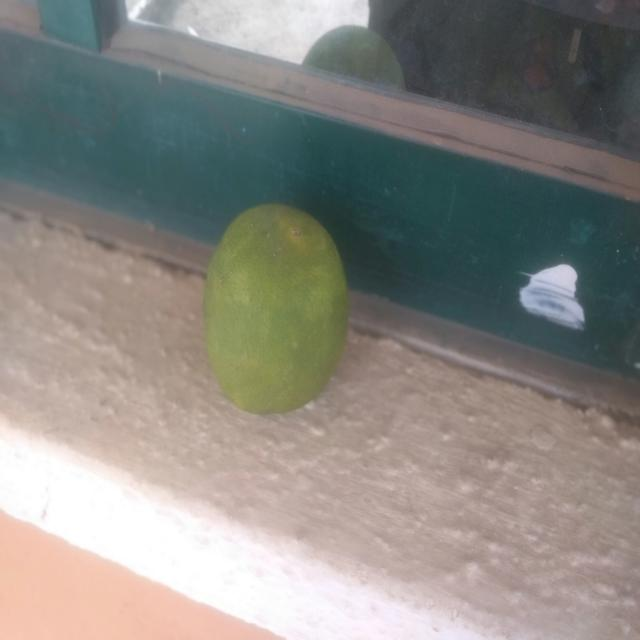Unripe: (188, 188, 365, 447)
